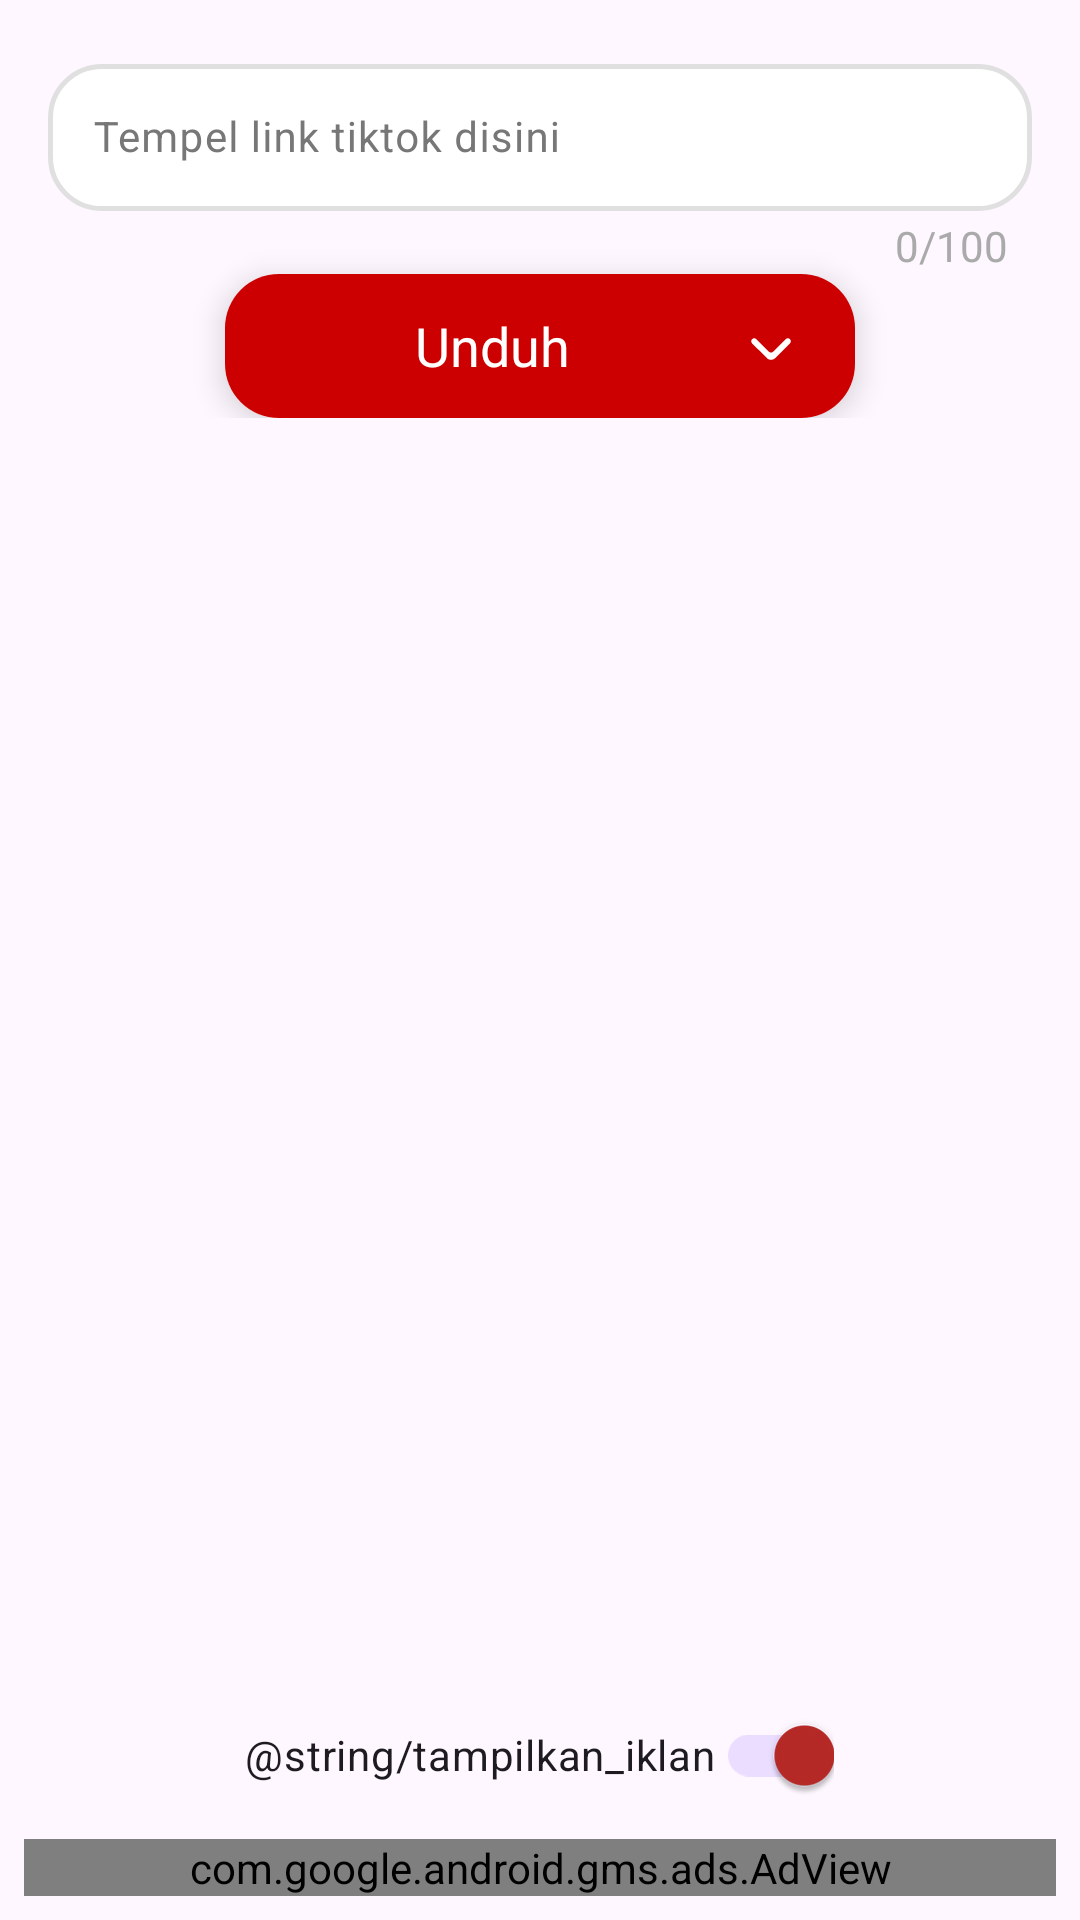

Named icons in this screenshot (1080px×1920px) and their bounding boxes, bbox(x1, y1, x2, y2):
Dropdown arrow: bbox(751, 338, 791, 360)
